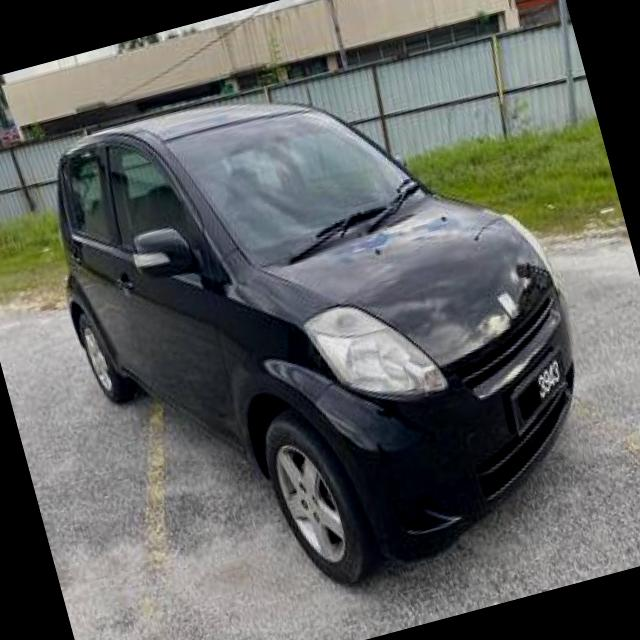PeroduaMyvi: (21, 18, 622, 640)
